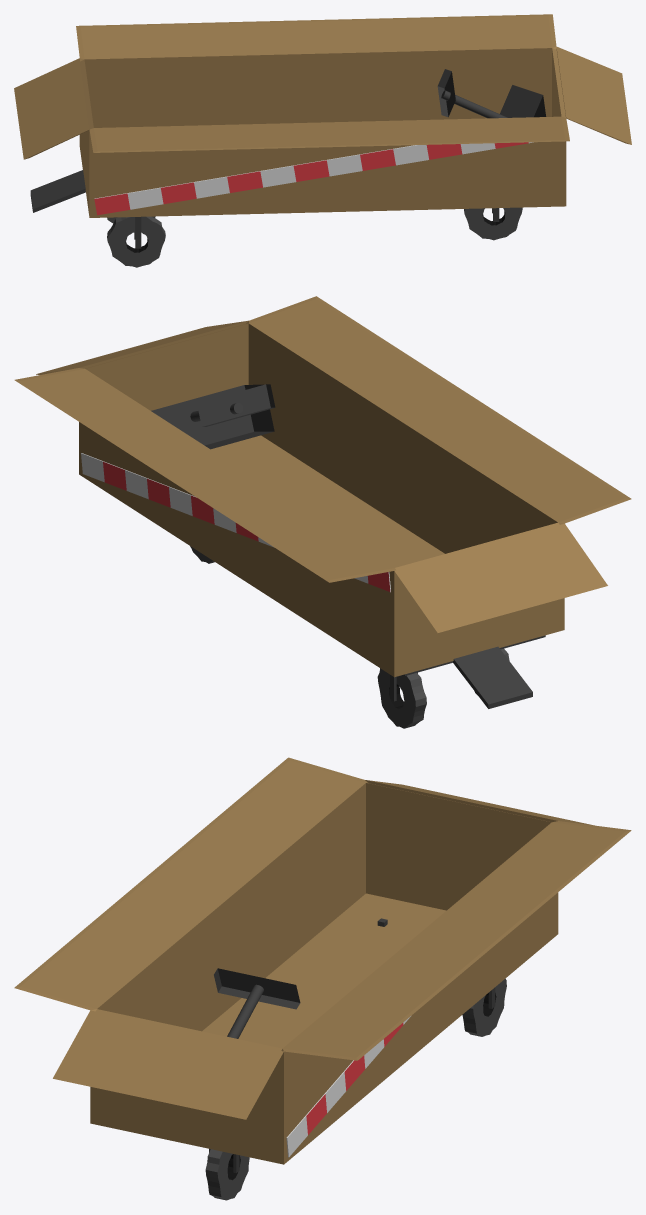
The model's file is boxstone.gltf.
3 renders of one model, top to bottom at view 1: azimuth 30°, elevation 25°; view 2: azimuth 150°, elevation 25°; view 3: azimuth 270°, elevation 25°, orthographic. The views are drawn at different scales.
Parts seen in each view (by area): view 1: Cube.007; view 2: Cube.007; view 3: Cube.007.
Part boxes in pixels (x1,y1,x2,y2): Cube.007: (14,14,631,267); Cube.007: (14,296,631,728); Cube.007: (14,757,631,1200).
Bounding box in the file's own units: 12.71 × 3.62 × 9.9.
